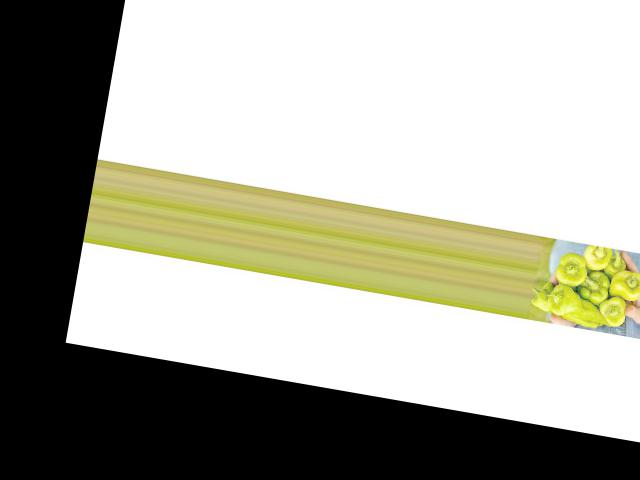bell_pepper: (606, 264, 640, 301)
